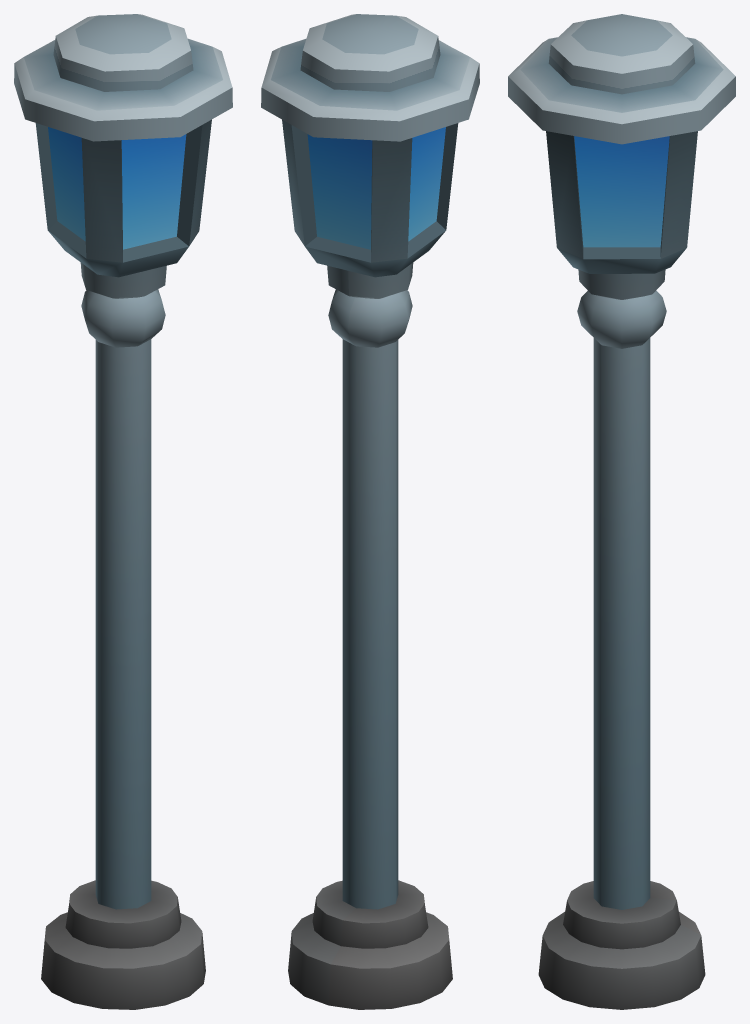
The model's file is Lamp.fbx.
3 renders of one model, left to right at view 1: azimuth 30°, elevation 25°; view 2: azimuth 150°, elevation 25°; view 3: azimuth 270°, elevation 25°, orthographic.
Visible parts, largest first — view 1: Lamp; view 2: Lamp; view 3: Lamp.
Boxes of the visible parts, bbox=[...] form: Lamp: bbox=[14, 14, 232, 1009]; Lamp: bbox=[261, 14, 479, 1009]; Lamp: bbox=[508, 14, 735, 1009].
Size of the model in its own units: 0.1089 by 0.4998 by 0.1094.
